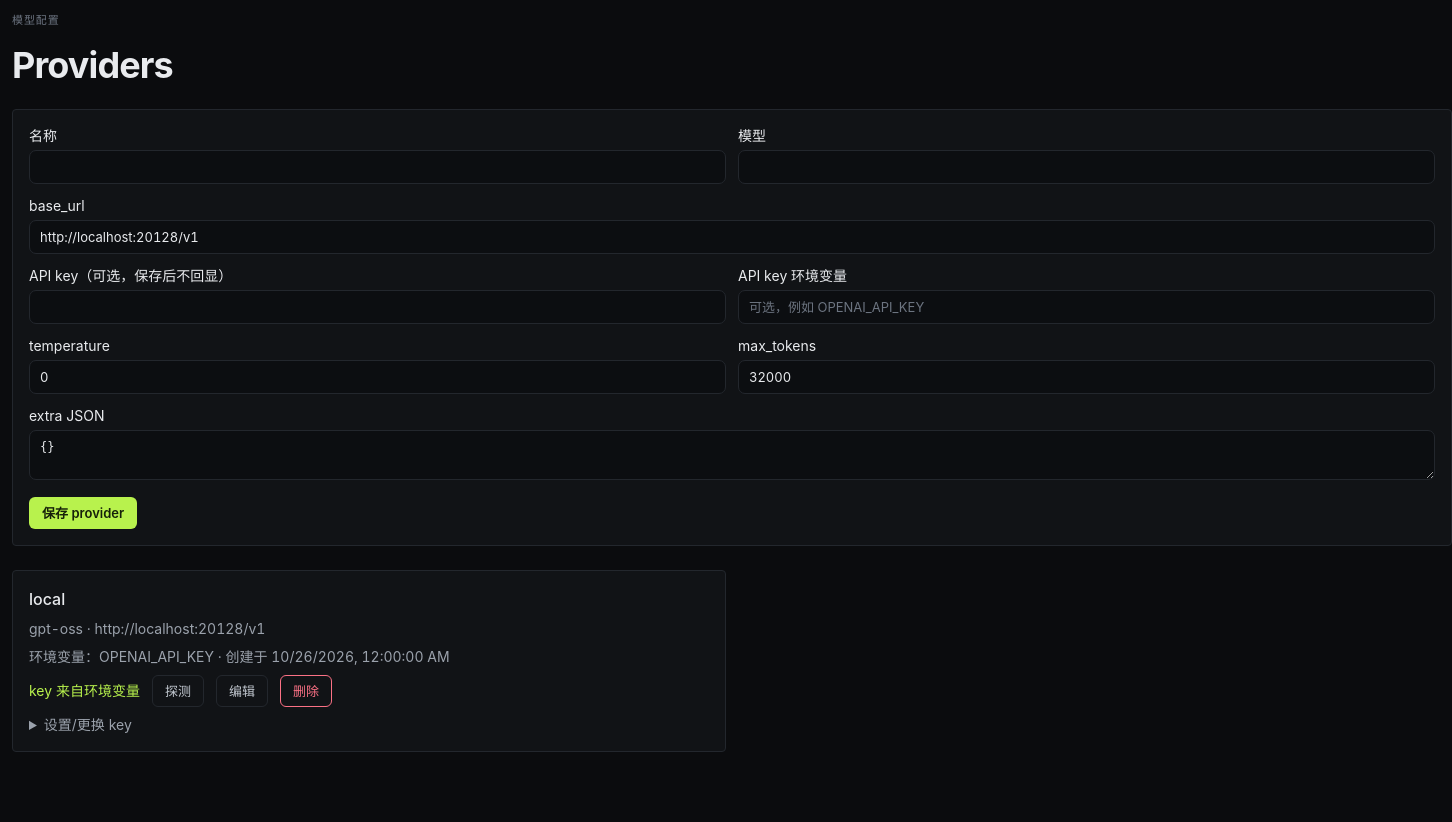
Scenario: ProvidersView › shows env key state and probe result
Expected: the list item with test id "provider-card" shows "local", [29,589,65,609]
Expected: the text with test id "key-configured" reads "key 来自环境变量", [29,682,140,699]
Click the button "探测": (178, 691) [152,675,204,707]
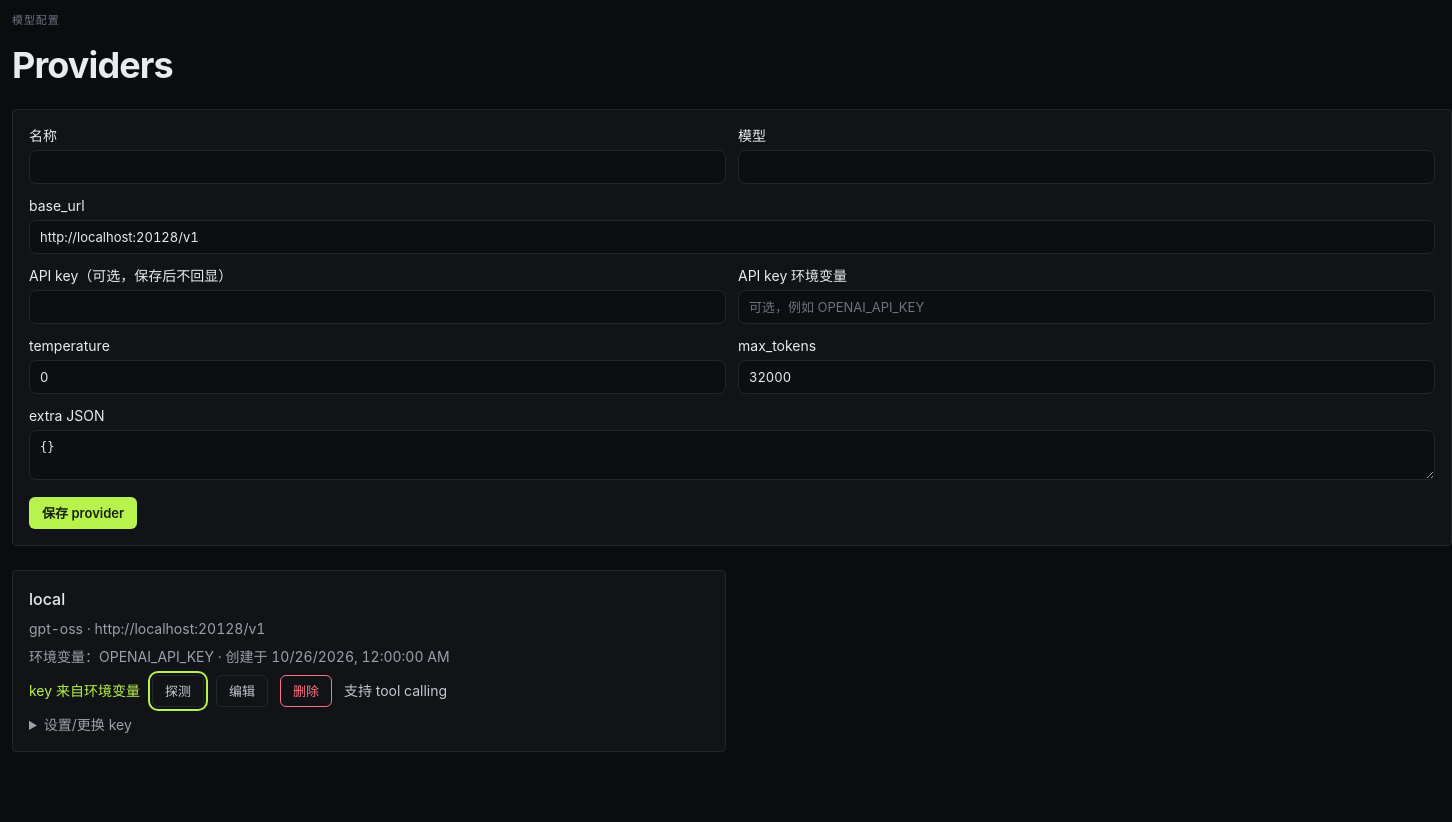
Expected: the text "支持 tool calling" is shown, [344,681,447,701]
